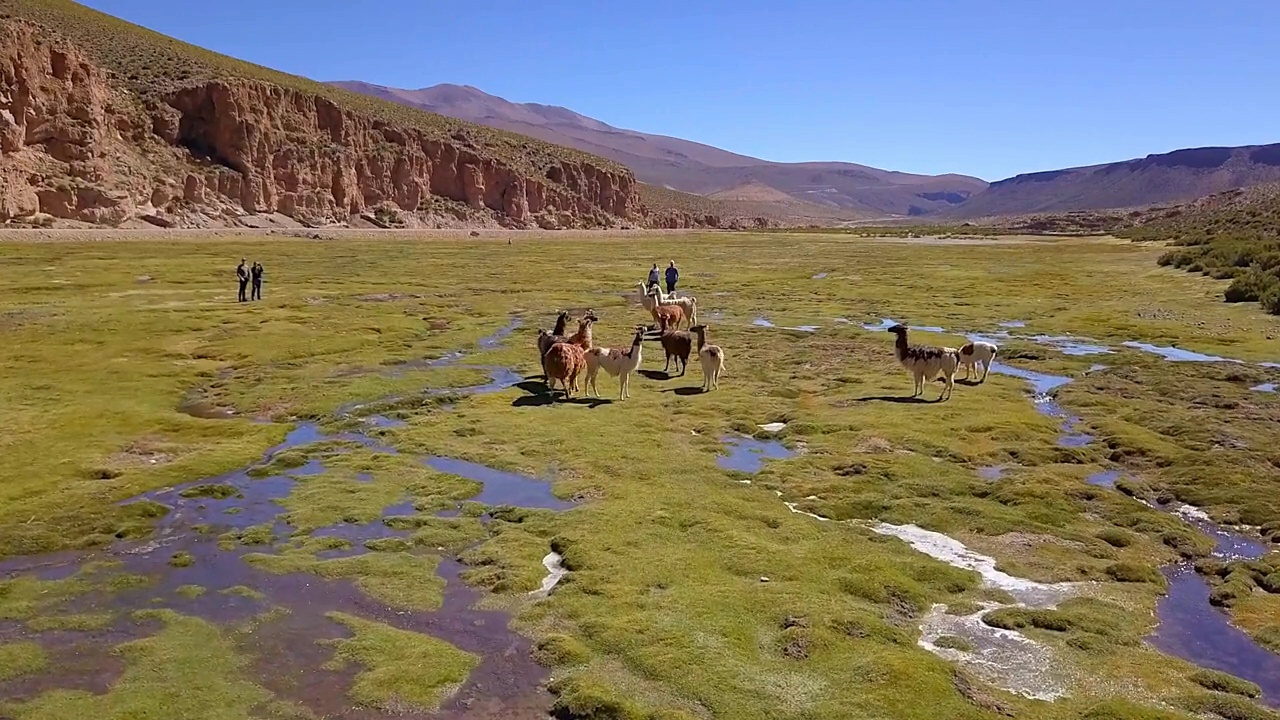insan: (642, 262, 667, 294), (238, 258, 253, 306), (664, 258, 680, 295), (250, 258, 263, 302)
